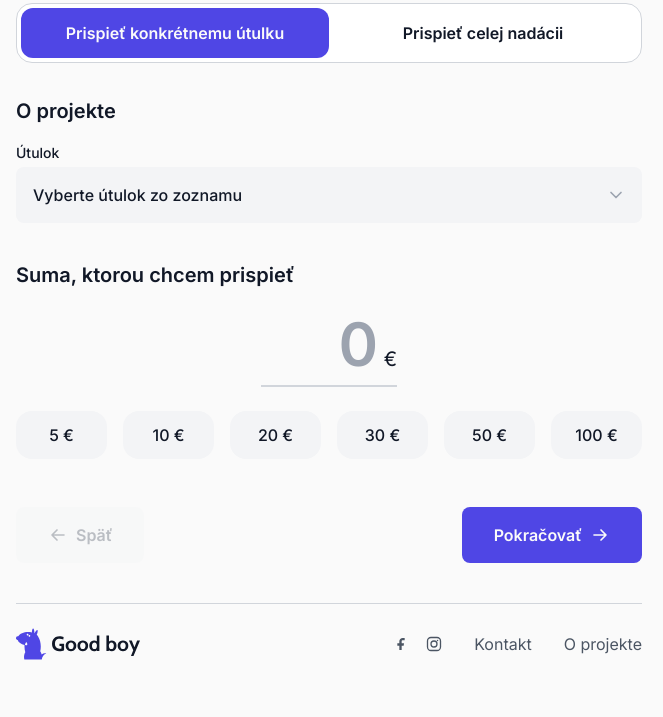
Test case: Step1 › shows BOTH Slovak errors when submitting with nothing filled in (default help type)
This screenshot has width=663, height=717.
(page scrolled)
Click the button "Pokračovať": (552, 535) [462,507,642,563]
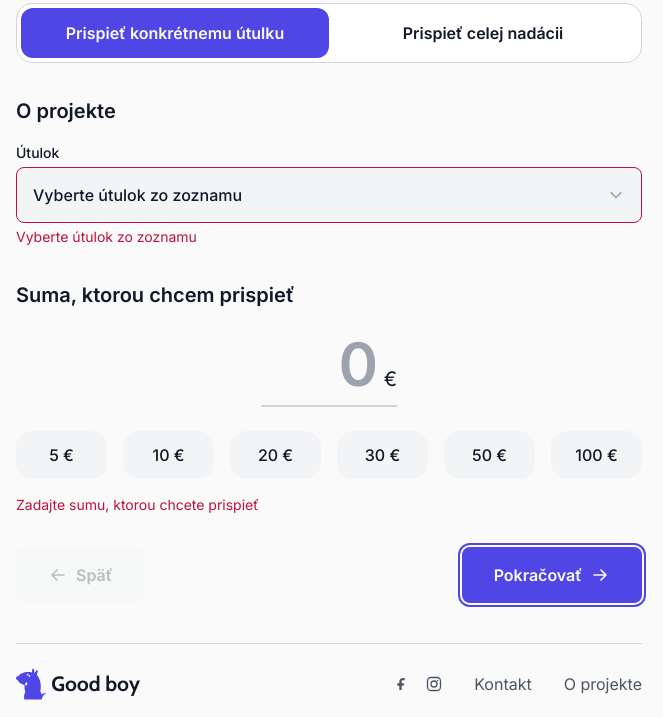
Expected: the text with id "shelterId-error" reads "Vyberte útulok zo zoznamu", [16,228,197,245]
